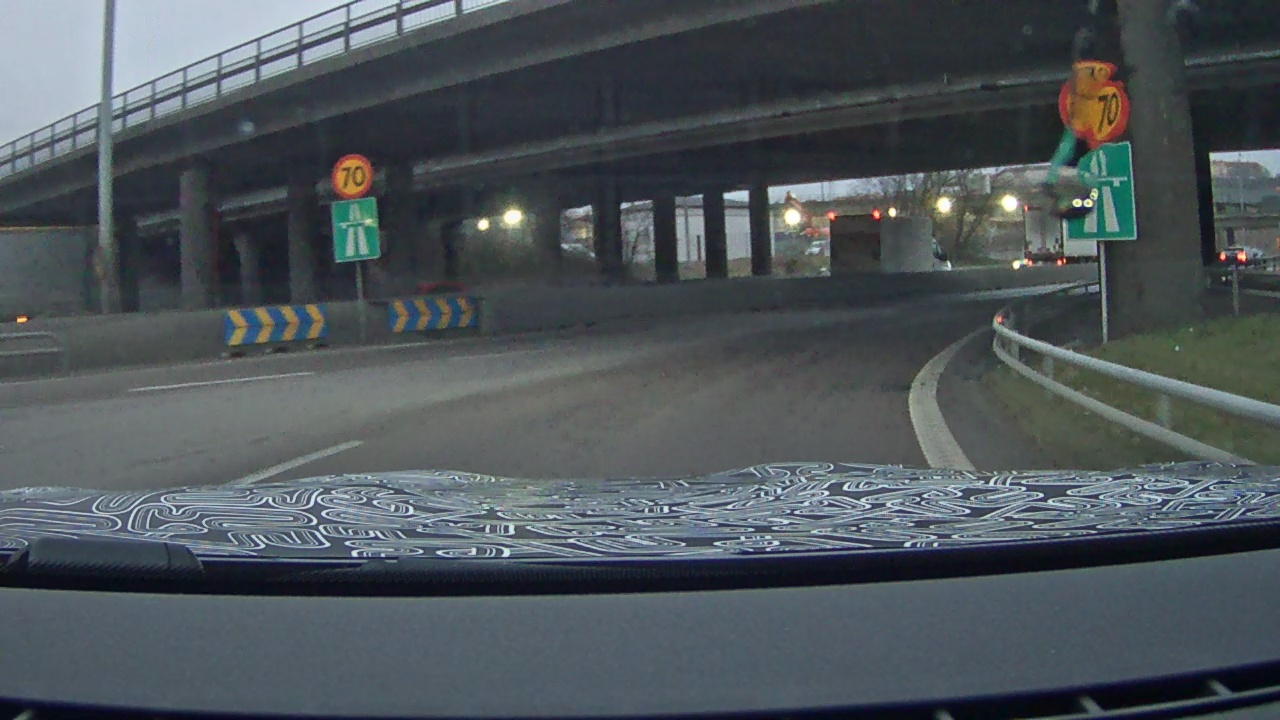Motorway_Begin: (330, 198, 380, 264)
